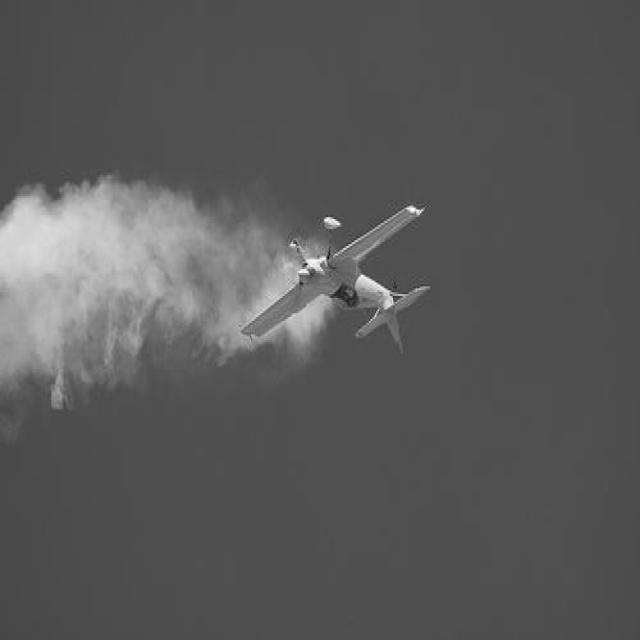aeroplane: (235, 202, 430, 364)
